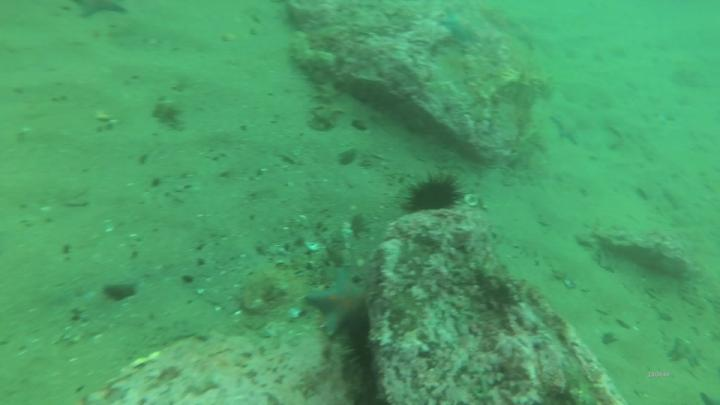echinus: (411, 179, 458, 210)
holothurian: (293, 33, 317, 73)
scallop: (286, 307, 304, 320), (467, 194, 481, 210), (306, 241, 321, 254)
starfish: (309, 269, 373, 337), (554, 112, 580, 143)
